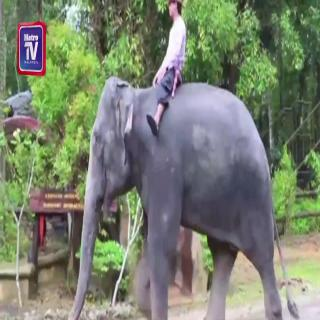Elephant: (71, 71, 302, 320)
